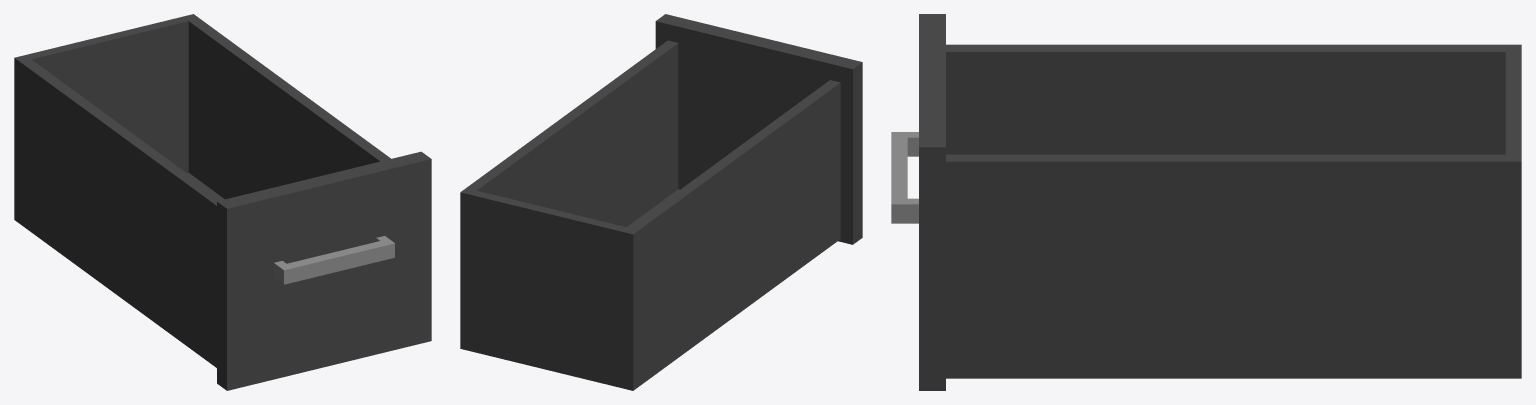
File: Door2_C3_07.fbx
The picture shows the model from 3 angles, left to right: view 1: azimuth 30°, elevation 25°; view 2: azimuth 150°, elevation 25°; view 3: azimuth 270°, elevation 25°; orthographic projection. The views are drawn at different scales.
Parts seen in each view (by area): view 1: Door2_C3_07; view 2: Door2_C3_07; view 3: Door2_C3_07.
Boxes of the visible parts, bbox=[...] form: Door2_C3_07: bbox=[14, 14, 431, 390]; Door2_C3_07: bbox=[460, 14, 862, 390]; Door2_C3_07: bbox=[891, 14, 1521, 390].
Bounding box in the file's own units: 29 × 24.68 × 57.89.
